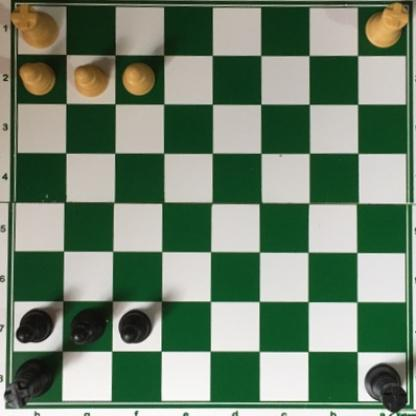black-pawn: (69, 306, 107, 347), (14, 309, 56, 346), (117, 308, 154, 346)
black-rook: (3, 358, 54, 411), (363, 364, 410, 414)
white-pawn: (72, 63, 109, 97), (19, 62, 57, 95), (122, 61, 155, 97)
white-rook: (363, 0, 413, 50), (10, 2, 59, 50)
